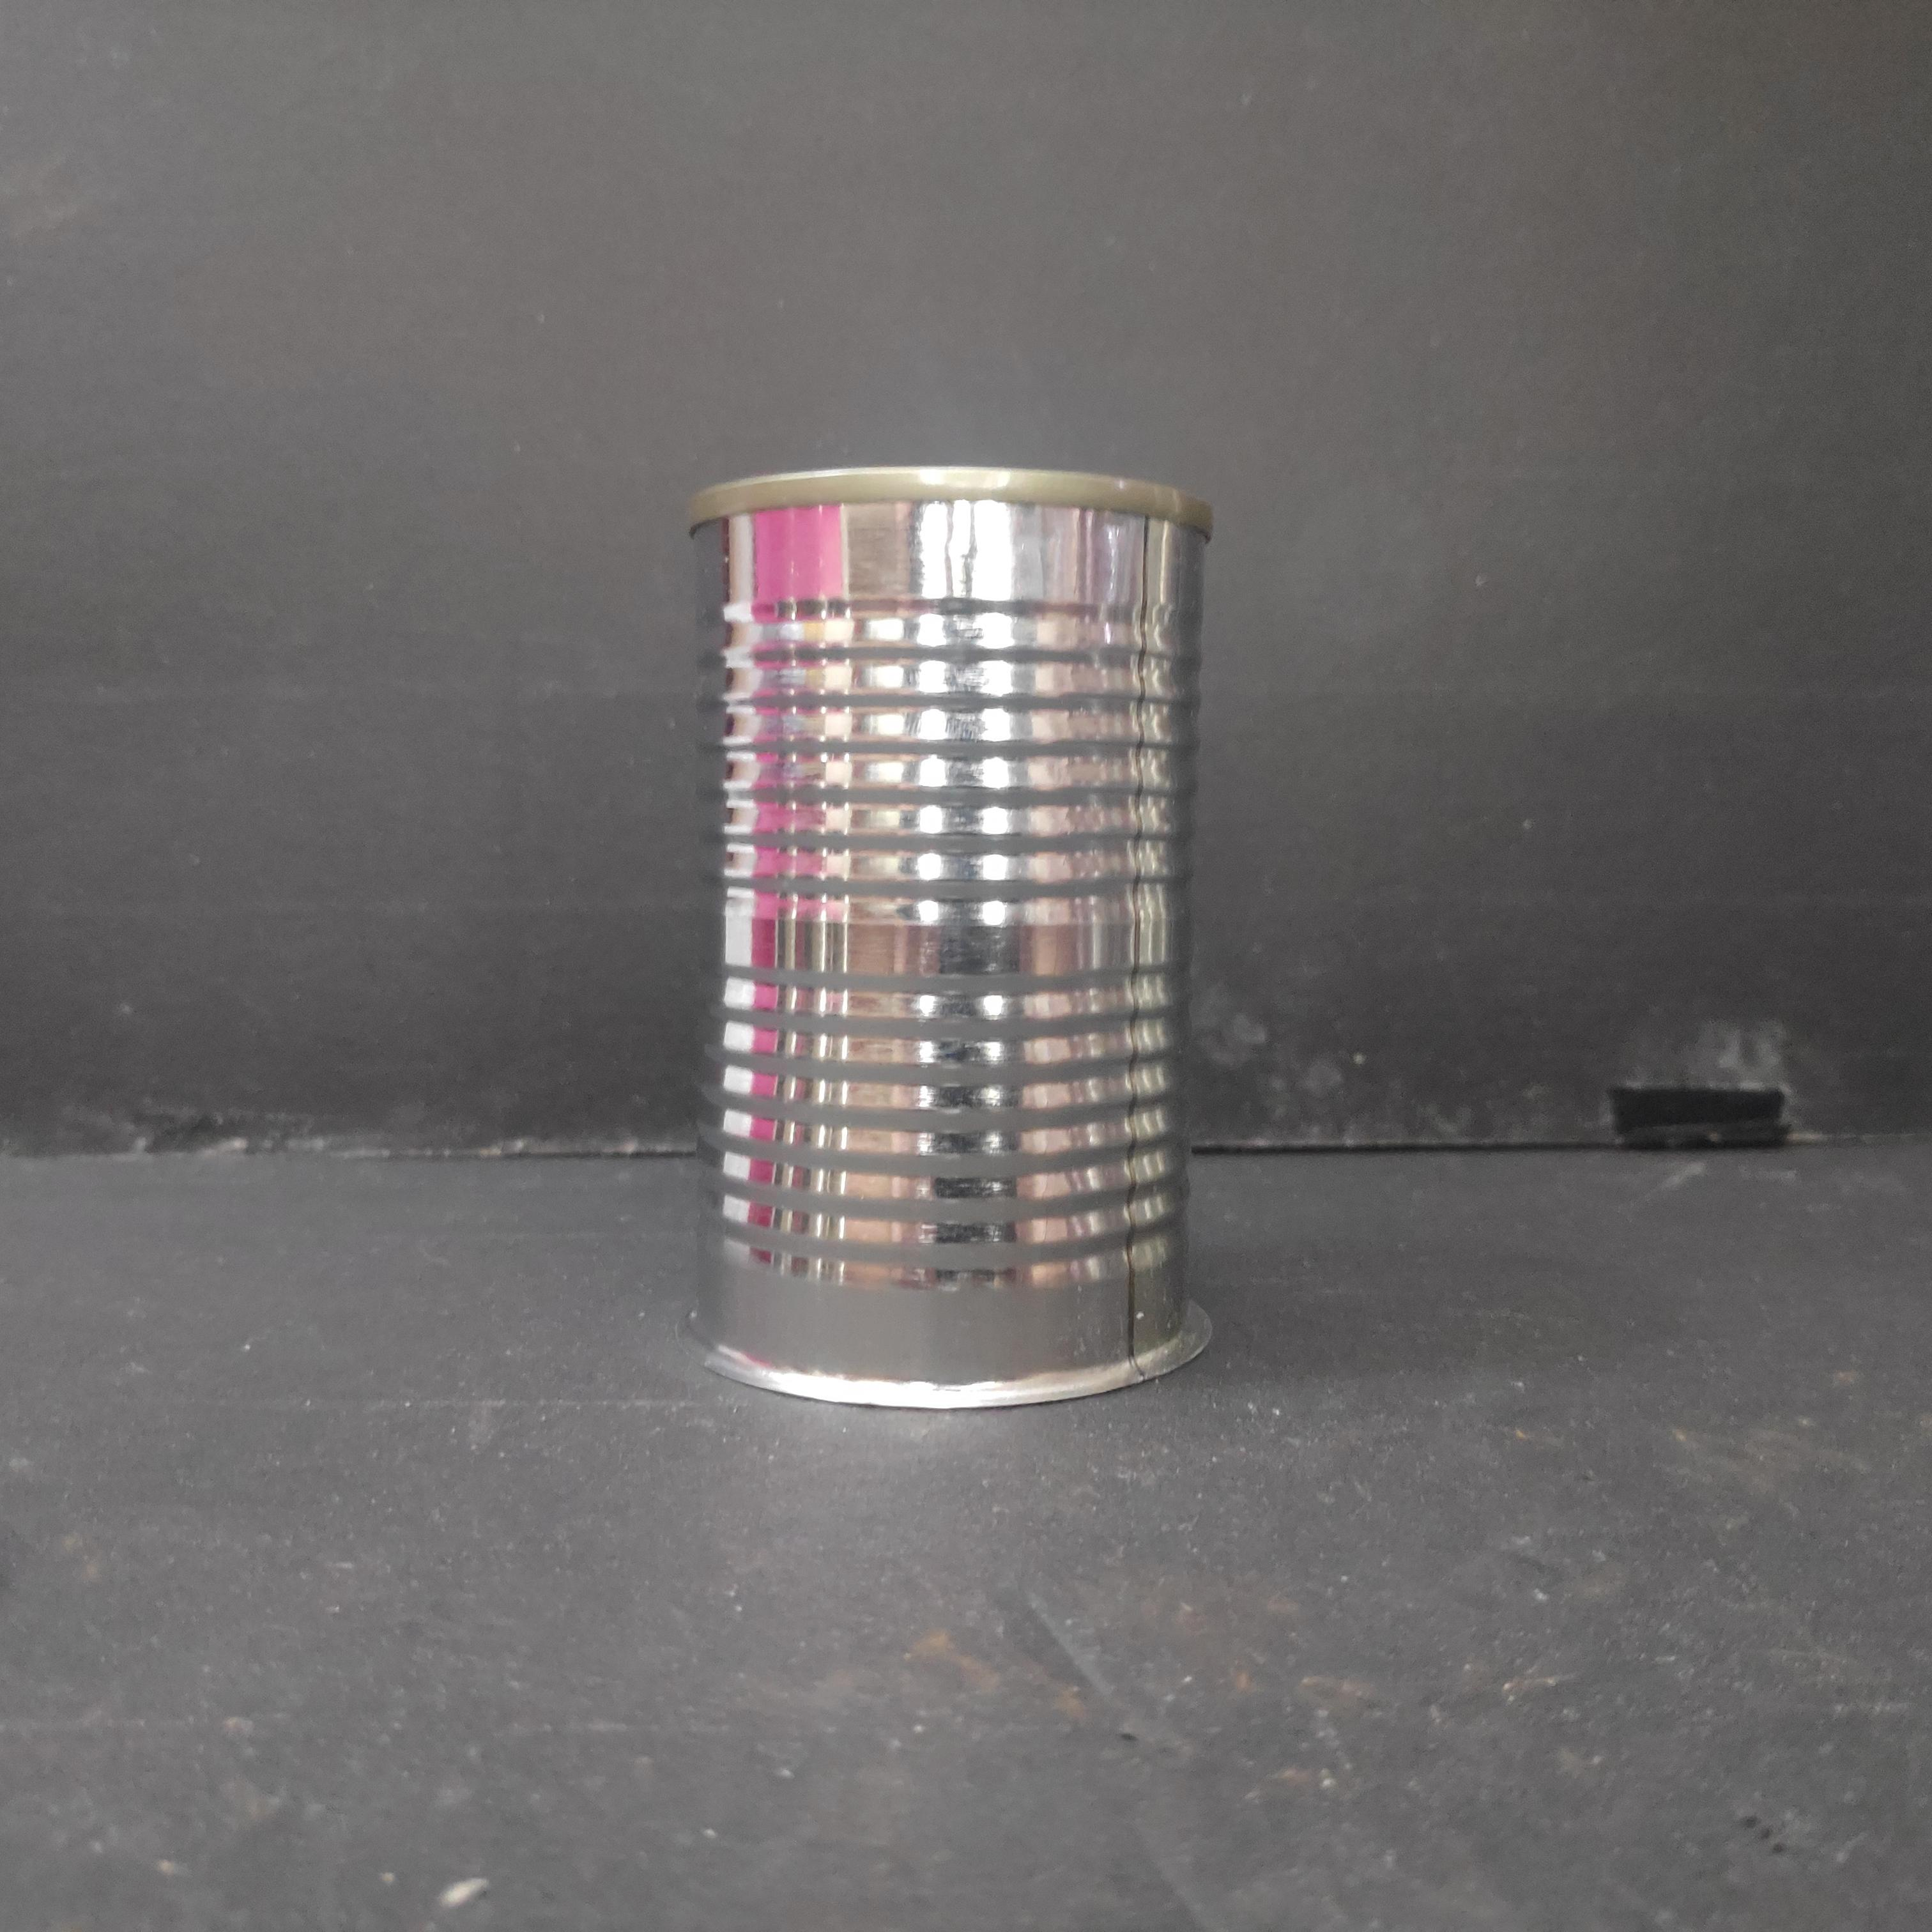No defect: (671, 464, 1219, 1408)
